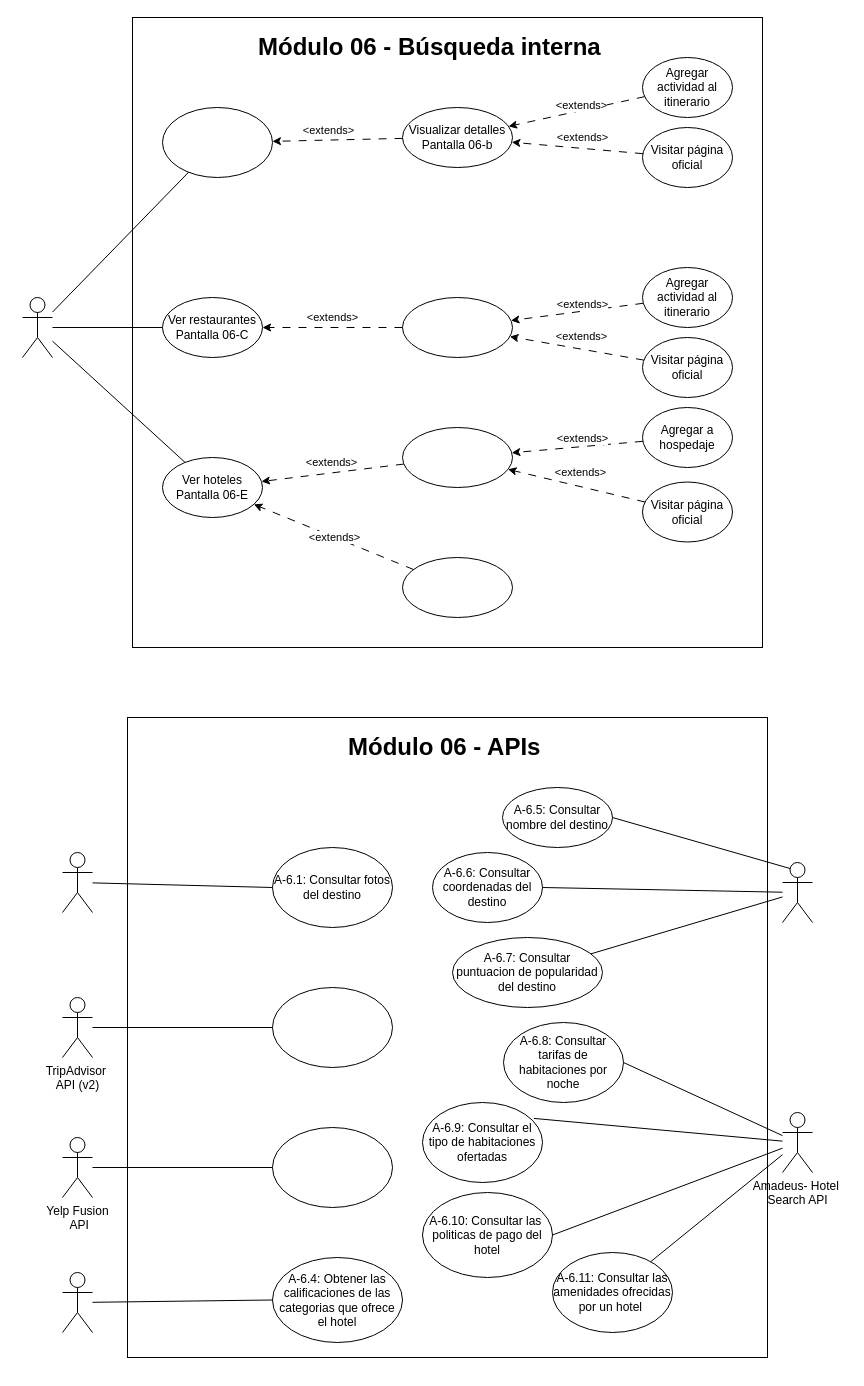
Image size: 864x1386. Some labels were removed from this diagram. Each missing label, with the centre of its shape:
"A-6.2: Obtener descripcion del destino" goes at point (332, 1027).
"A-6.3: Obtener el menu de un restaurante" goes at point (332, 1167).
"Amadeus - Points of Interests API" goes at point (797, 892).
"Amadeus- Hotel Raiting API" goes at point (77, 1302).
"Explorar atracciones del destino Pantalla 06-A" goes at point (217, 142).
"Google Places API" goes at point (77, 882).
"Usuario" goes at point (37, 327).
"Visualizar detalles Pantalla 06-D" goes at point (457, 327).
"Visualizar detalles Pantalla 06-F" goes at point (457, 457).
"Votar hospedaje Pantalla 06-H" goes at point (457, 587).
